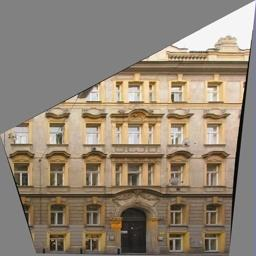building: (17, 37, 235, 256)
